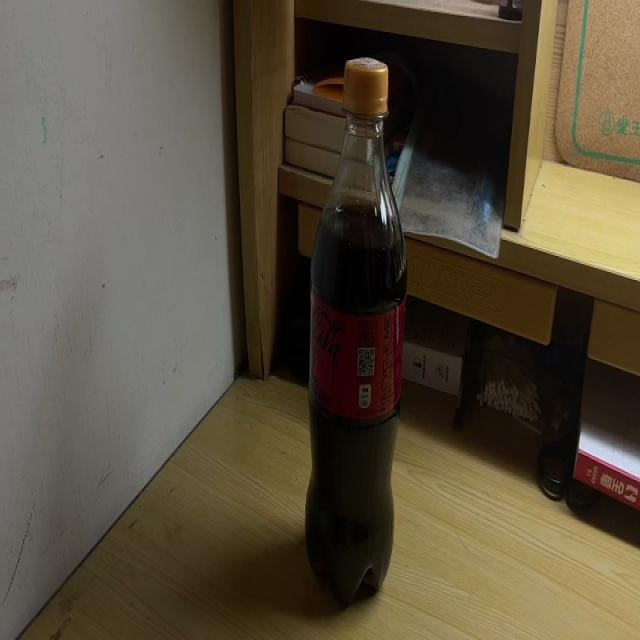Coca-Cola: (304, 56, 409, 607)
